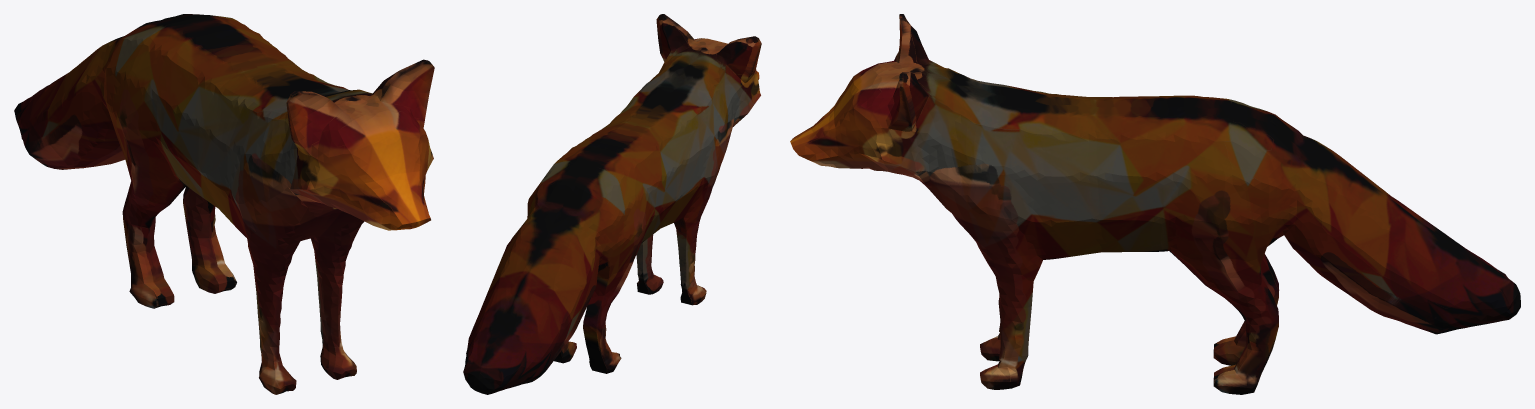
Rendered from fox.glb.
3 views of the same model, side by side, from view 1: azimuth 30°, elevation 25°; view 2: azimuth 150°, elevation 25°; view 3: azimuth 270°, elevation 25° (orthographic). The views are drawn at different scales.
Parts seen in each view (by area): view 1: mesh; view 2: mesh; view 3: mesh.
Boxes of the visible parts, bbox=[...] form: mesh: bbox=[14, 14, 434, 394]; mesh: bbox=[463, 14, 761, 394]; mesh: bbox=[790, 14, 1520, 394].
Size of the model in its own units: 0.4246 by 0.9602 by 1.92.
1 material, 1 textured.
